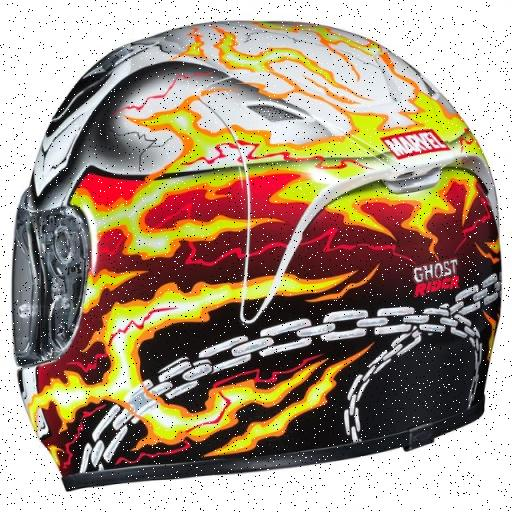Helmet: (13, 22, 500, 488)
